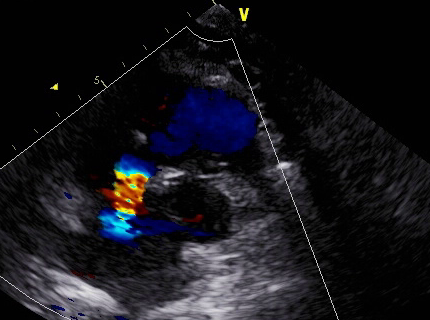TR: (96, 162, 152, 235)
